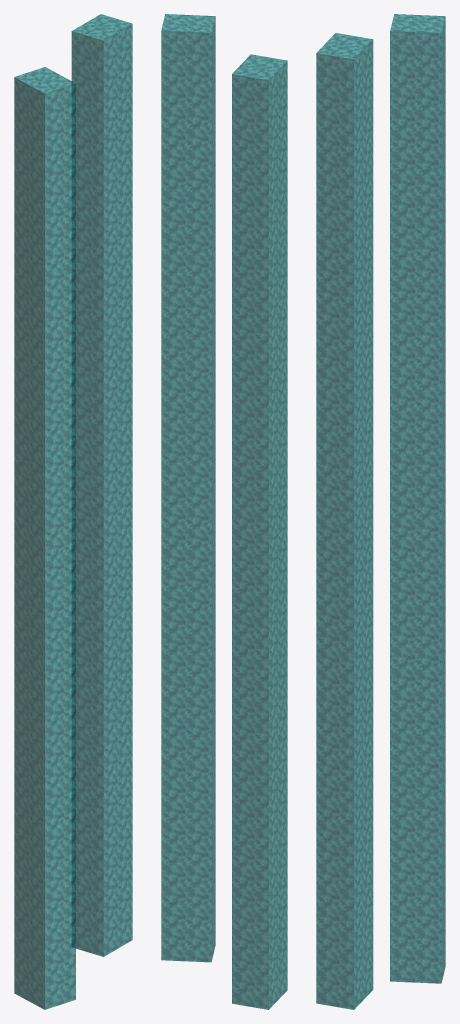
File: Water (2).gltf
The picture shows the model from 3 angles, left to right: view 1: azimuth 30°, elevation 25°; view 2: azimuth 150°, elevation 25°; view 3: azimuth 330°, elevation 25°; orthographic projection. The views are drawn at different scales.
Parts seen in each view (by area): view 1: Waterfall (×2); view 2: Waterfall (×2); view 3: Waterfall (×2).
Part boxes in pixels (x1,y1,x2,y2): Waterfall (×2): (14,14,132,1009); Waterfall (×2): (161,14,287,1009); Waterfall (×2): (316,14,445,1009).
Size of the model in its own units: 5.56 by 45.71 by 3.
1 material, 1 textured.
